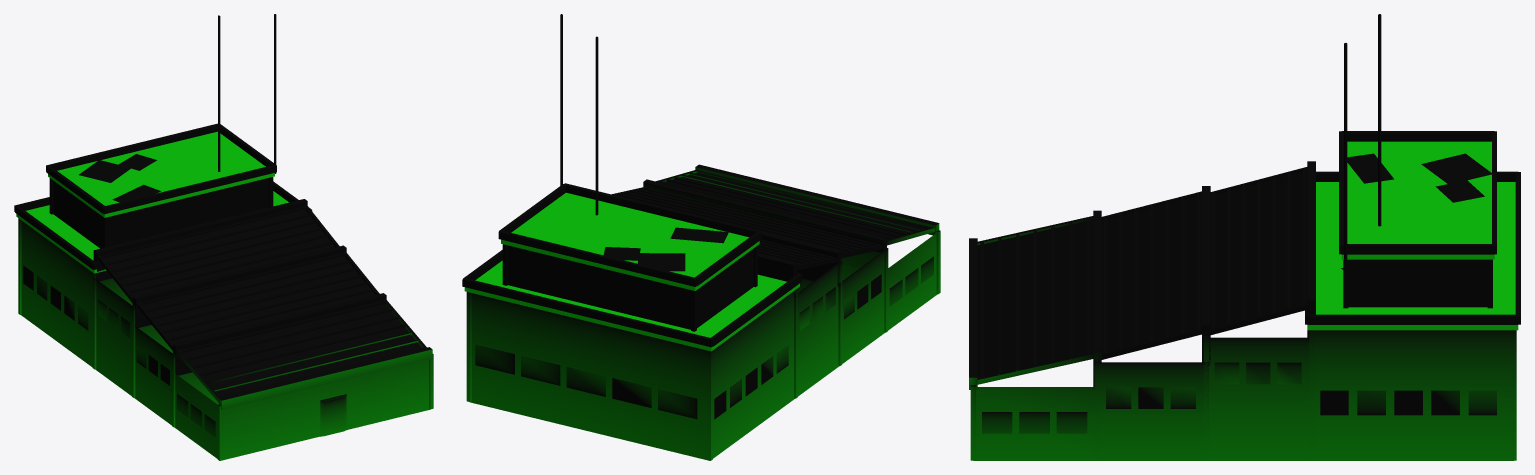
The picture shows the model from 3 angles, left to right: view 1: azimuth 30°, elevation 25°; view 2: azimuth 150°, elevation 25°; view 3: azimuth 270°, elevation 25°; orthographic projection. The views are drawn at different scales.
Visible parts, largest first — view 1: lod0; view 2: lod0; view 3: lod0.
Boxes of the visible parts, bbox=[...] form: lod0: bbox=[14, 14, 433, 460]; lod0: bbox=[462, 14, 940, 460]; lod0: bbox=[969, 14, 1520, 460].
Size of what is drawn, in the model's own units: 20.2 by 26.3 by 32.45.
